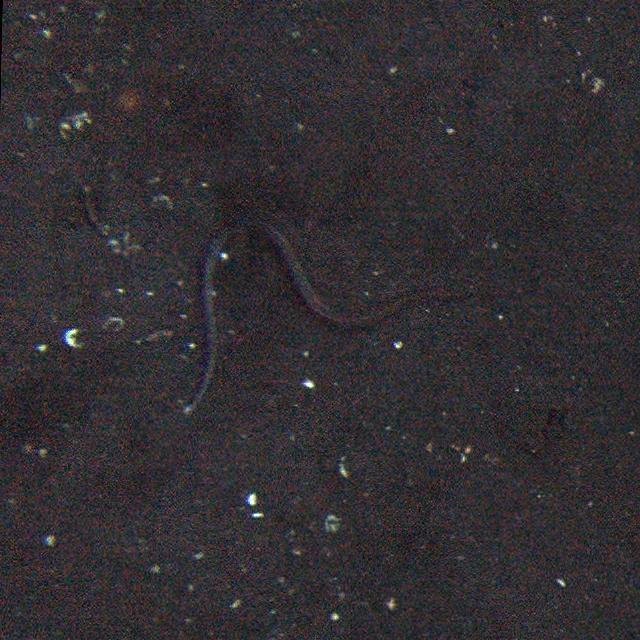eel: (180, 215, 462, 419)
